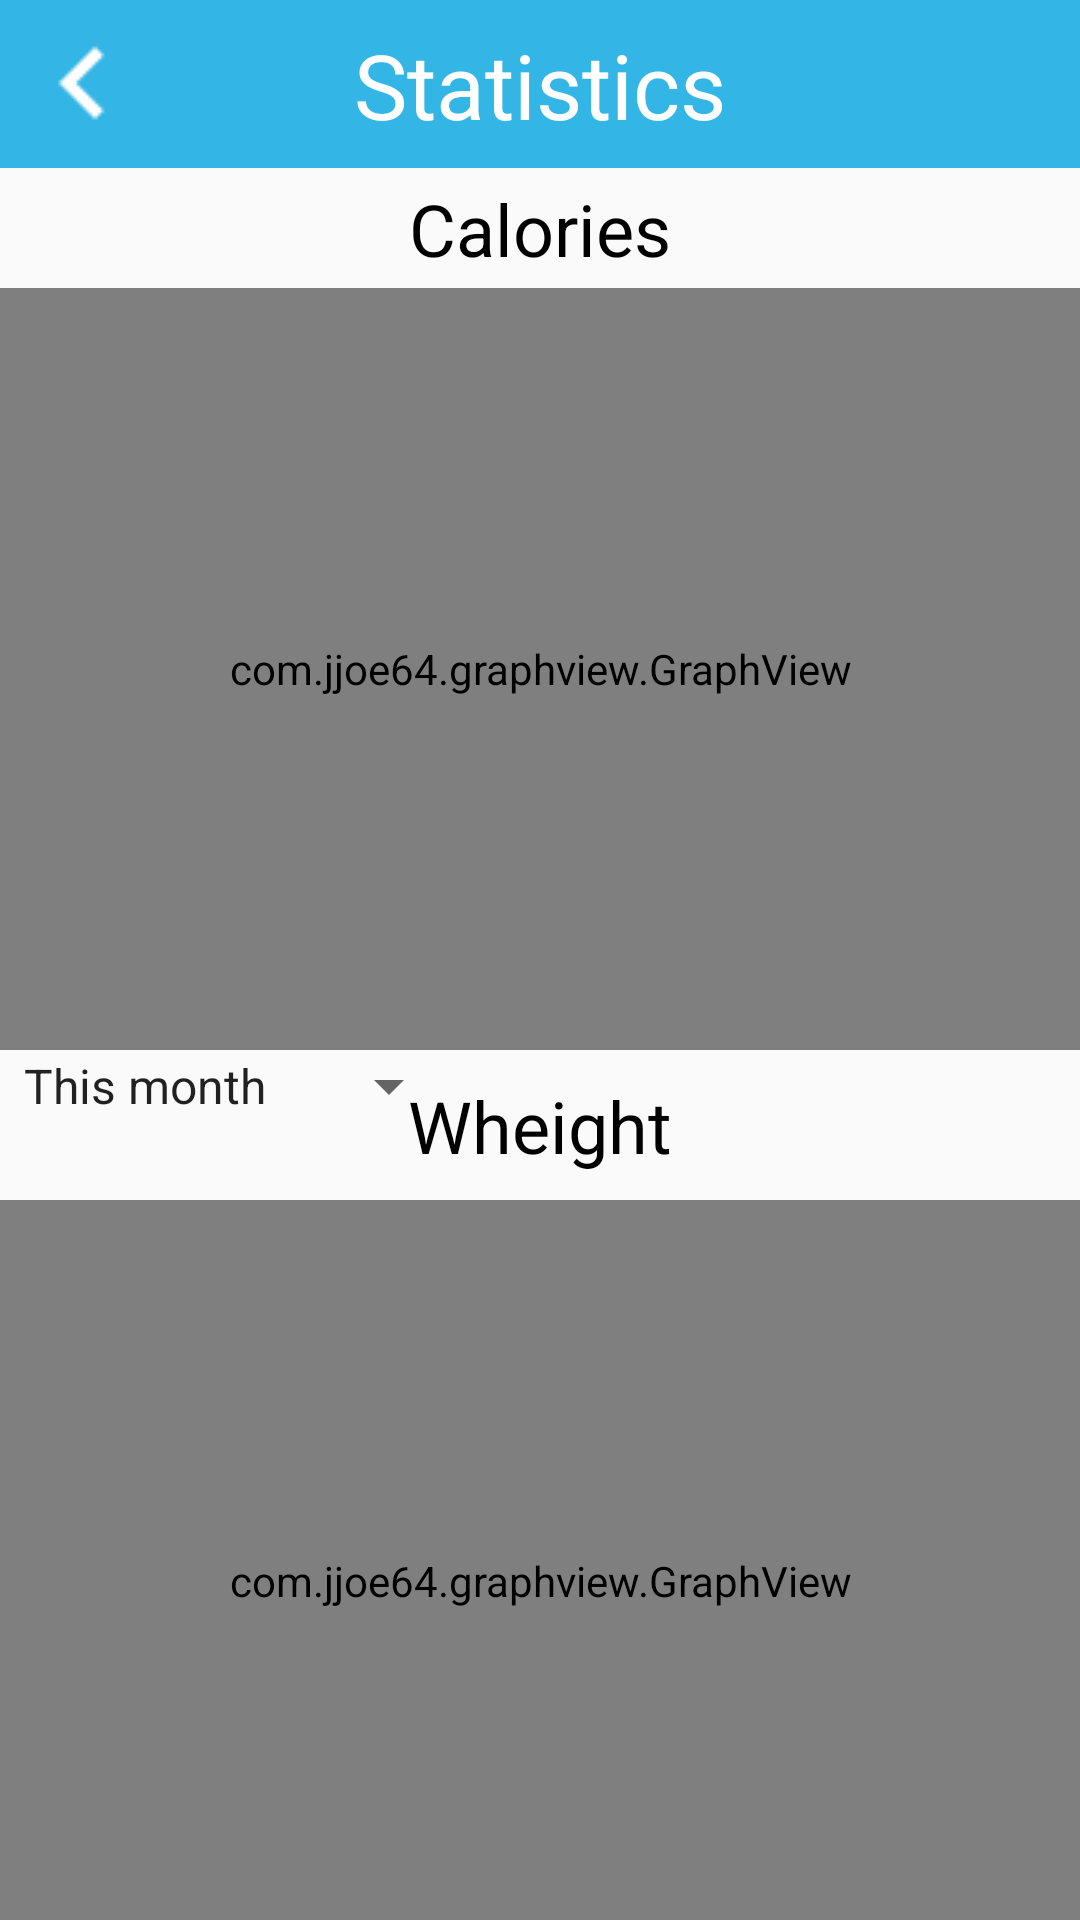

Icon click points for this 1080px x 1920px phone screenshot, format (x,y):
Back to ClientForTrainer: (81,83)
